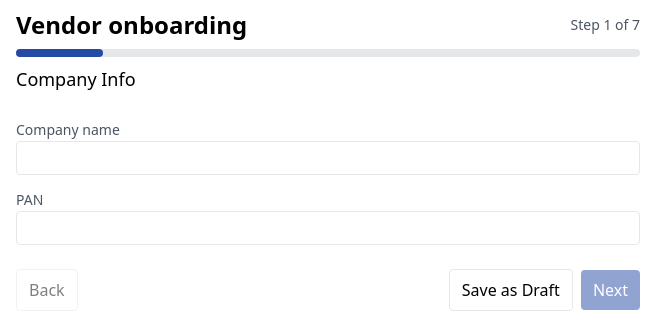
Scenario: SubmissionFormComponent › valid PAN + companyName enables Next
Type "Acme" into the field with test id "companyName-input". click: (328, 158)
box: x1=16 y1=141 x2=640 y2=175
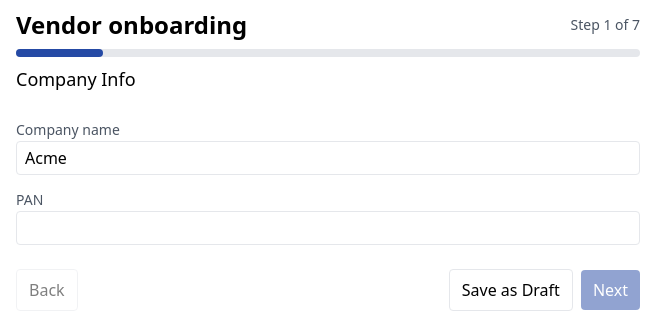
Type "ABCDE1234F" into the field with test id "panNumber-input". click: (328, 228)
box: x1=16 y1=211 x2=640 y2=245
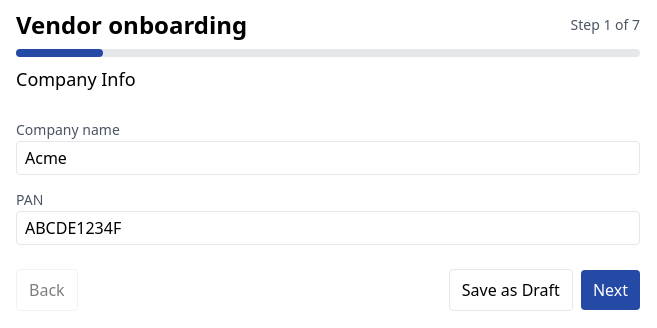
Result: the button with test id "next-btn" is enabled at x1=581 y1=270 x2=640 y2=310
